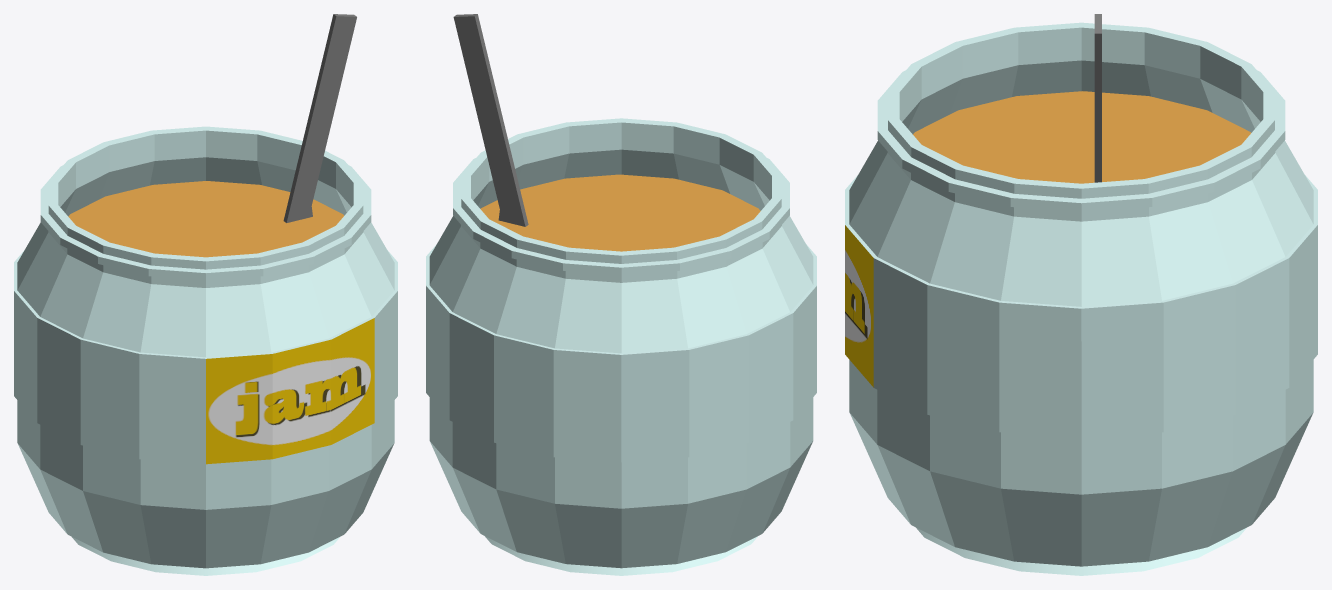
Rendered from f13_jam_knife.FBX.
3 views of the same model, side by side, from view 1: azimuth 30°, elevation 25°; view 2: azimuth 150°, elevation 25°; view 3: azimuth 270°, elevation 25° (orthographic). The views are drawn at different scales.
Visible parts, largest first — view 1: Cylinder001, Cylinder002, Box001; view 2: Cylinder001, Cylinder002, Box001; view 3: Cylinder001, Cylinder002, Box001.
Part boxes in pixels (bbox=[...]): Cylinder001: bbox=[14, 126, 397, 575]; Cylinder002: bbox=[68, 181, 343, 257]; Box001: bbox=[283, 14, 356, 222]; Cylinder001: bbox=[426, 118, 816, 575]; Cylinder002: bbox=[480, 174, 760, 251]; Box001: bbox=[453, 14, 528, 226]; Cylinder001: bbox=[845, 22, 1317, 575]; Cylinder002: bbox=[913, 91, 1250, 183]; Box001: bbox=[1094, 14, 1101, 182].
Size of the model in its own units: 67.21 by 87.6 by 66.19.
